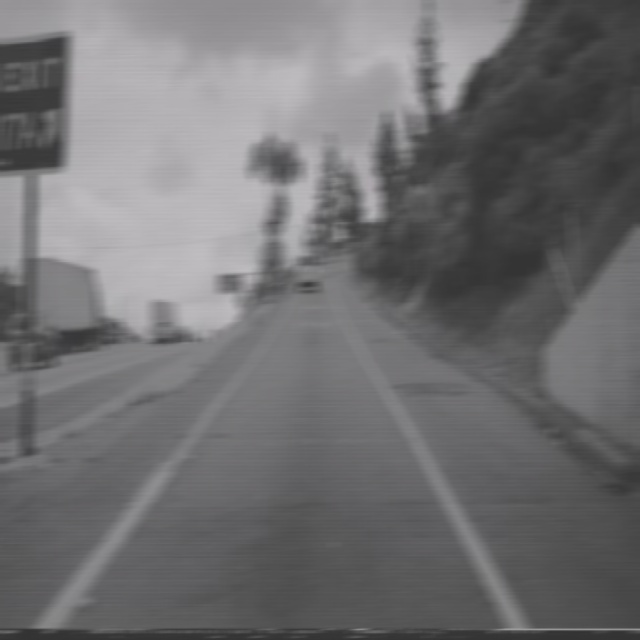stopAhead: (406, 166, 436, 224)
